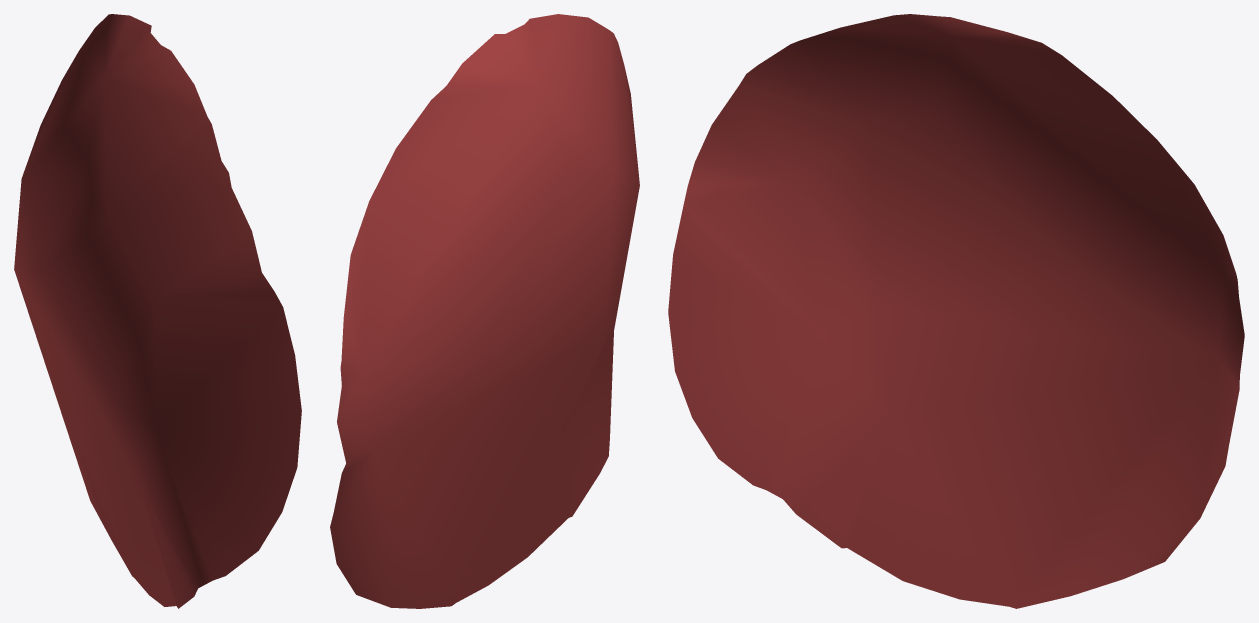
File: abductor-digiti-minimi-of-hand-el.glb
3 renders of one model, left to right at view 1: azimuth 30°, elevation 25°; view 2: azimuth 150°, elevation 25°; view 3: azimuth 270°, elevation 25°, orthographic. The views are drawn at different scales.
Parts seen in each view (by area): view 1: Abductor digiti minimi of hand.el; view 2: Abductor digiti minimi of hand.el; view 3: Abductor digiti minimi of hand.el.
Part boxes in pixels (x1,y1,x2,y2): Abductor digiti minimi of hand.el: (14,14,301,608); Abductor digiti minimi of hand.el: (330,14,639,608); Abductor digiti minimi of hand.el: (668,14,1244,608).
Bounding box in the file's own units: 0.00119 × 0.00519 × 0.00464.
